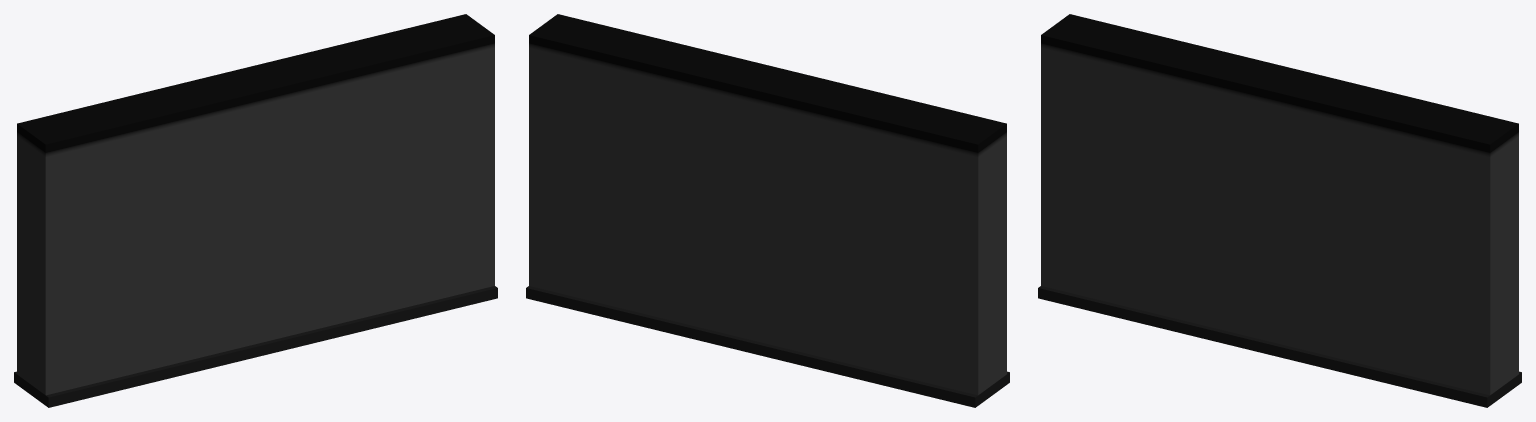
File: Wall-Stone-Model-01.fbx
3 renders of one model, left to right at view 1: azimuth 30°, elevation 25°; view 2: azimuth 150°, elevation 25°; view 3: azimuth 330°, elevation 25°, orthographic.
Visible parts, largest first — view 1: Wall-Stone-Model-01; view 2: Wall-Stone-Model-01; view 3: Wall-Stone-Model-01.
Boxes of the visible parts, x1=… form: Wall-Stone-Model-01: x1=14, y1=14, x2=497, y2=407; Wall-Stone-Model-01: x1=526, y1=14, x2=1009, y2=407; Wall-Stone-Model-01: x1=1038, y1=14, x2=1521, y2=407.
Bounding box in the file's own units: 90 × 50 × 12.
Materials: 1 (1 with a texture image).
